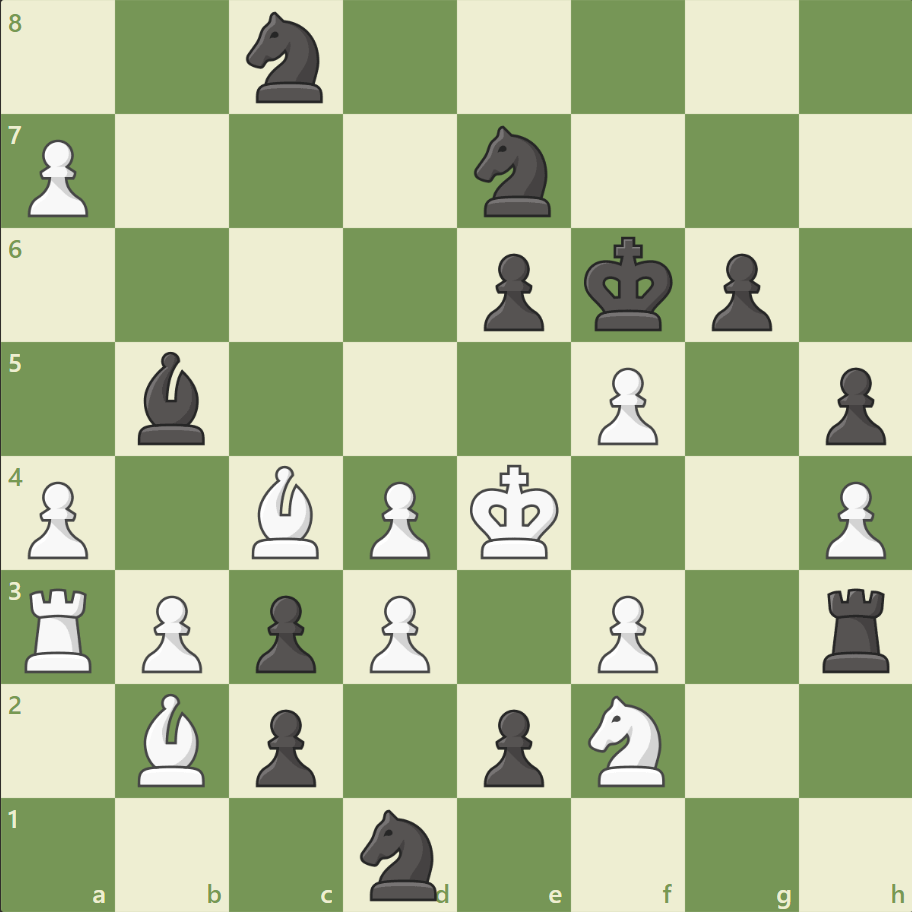B: (244, 460, 328, 563), (131, 687, 215, 790)
K: (465, 458, 565, 566)
N: (579, 688, 676, 791)
P: (20, 132, 95, 223), (20, 473, 95, 564), (133, 586, 208, 677), (588, 359, 662, 450), (361, 473, 435, 564), (815, 473, 889, 564), (361, 586, 435, 677), (588, 586, 662, 677)
R: (19, 579, 102, 676)
b: (131, 347, 215, 449)
k: (579, 231, 679, 339)
n: (351, 802, 449, 904), (238, 7, 335, 110), (465, 121, 562, 223)
p: (474, 246, 549, 337), (701, 246, 776, 337), (247, 586, 322, 677), (247, 700, 322, 791), (474, 700, 549, 791), (815, 359, 889, 450)
r: (814, 579, 897, 676)
